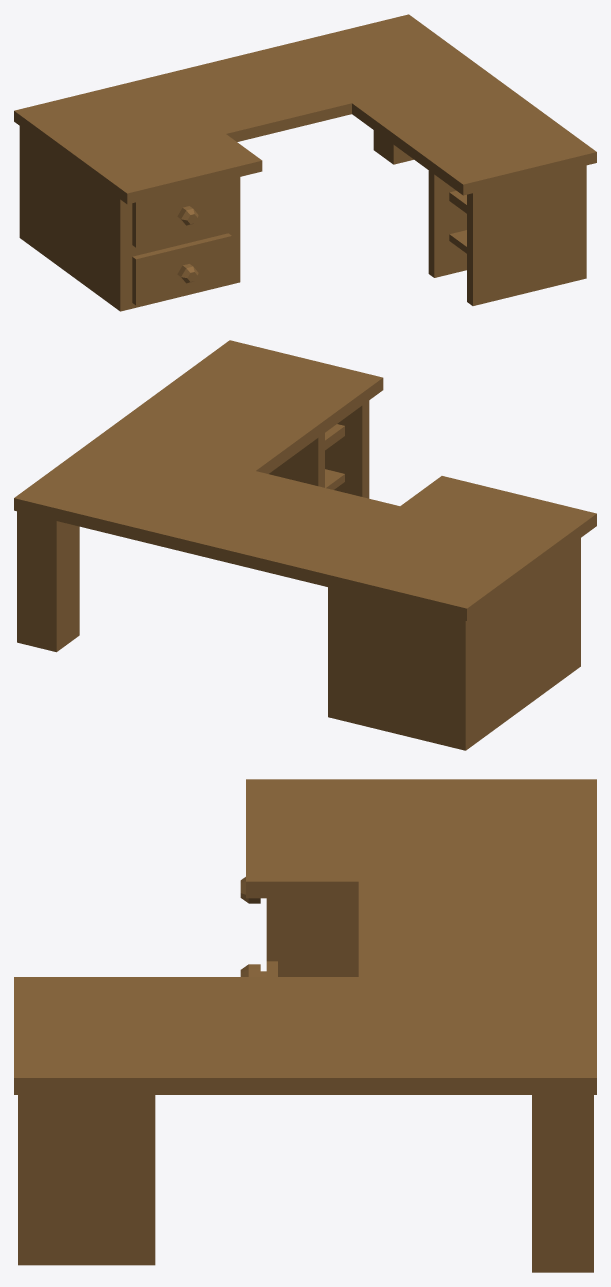
File: Table.fbx
The picture shows the model from 3 angles, top to bottom: view 1: azimuth 30°, elevation 25°; view 2: azimuth 150°, elevation 25°; view 3: azimuth 270°, elevation 25°; orthographic projection. The views are drawn at different scales.
Visible parts, largest first — view 1: Table; view 2: Table; view 3: Table.
Part boxes in pixels (box(x1,y1,x2,y2)): Table: box(14, 14, 596, 311); Table: box(14, 340, 596, 750); Table: box(14, 779, 596, 1272).
Bounding box in the file's own units: 2.68 × 2.21 × 0.8196.
